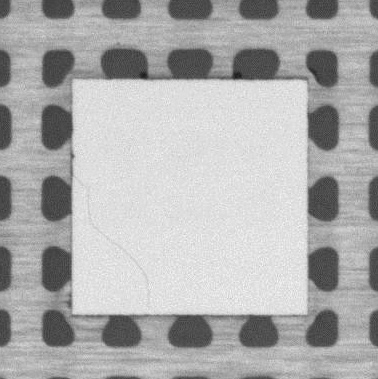DIE_INK: (71, 152, 76, 160)
